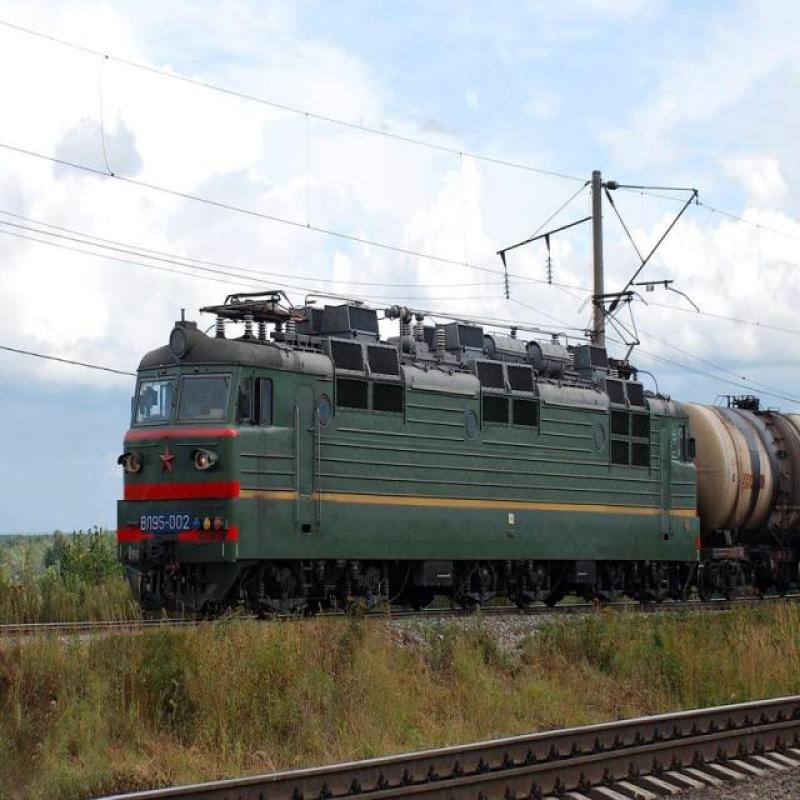train: (125, 330, 696, 595)
